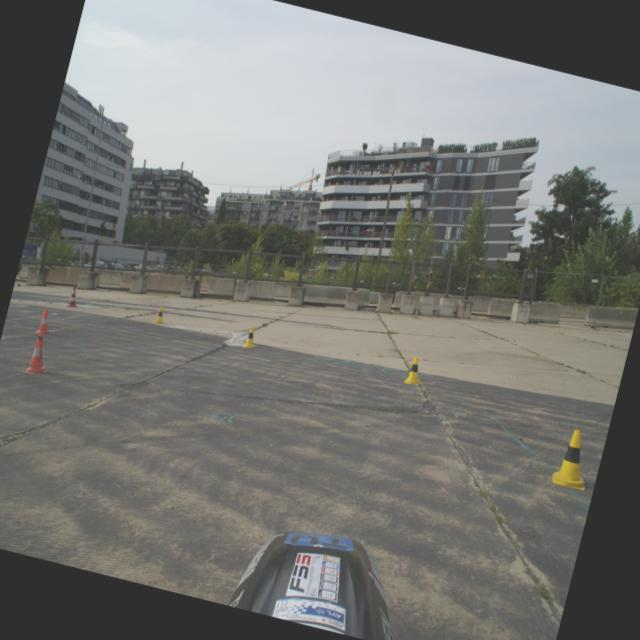large_orange_cone: (65, 284, 83, 309)
orange_cone: (20, 332, 56, 378), (34, 307, 56, 337)
yellow_cone: (550, 426, 598, 490), (404, 354, 426, 386), (241, 324, 260, 350), (152, 304, 168, 324)
